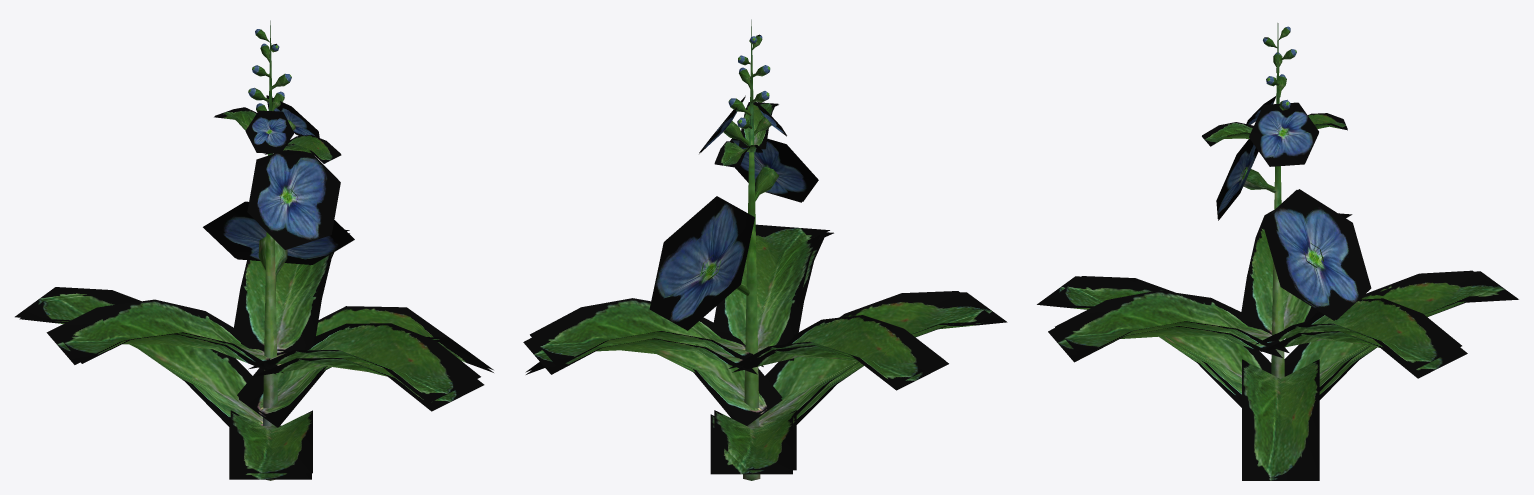
File: speedwell.glb
3 views of the same model, side by side, from view 1: azimuth 30°, elevation 25°; view 2: azimuth 150°, elevation 25°; view 3: azimuth 270°, elevation 25° (orthographic). The views are drawn at different scales.
Visible parts, largest first — view 1: Speedwell; view 2: Speedwell; view 3: Speedwell.
Part boxes in pixels (x1=…): Speedwell: x1=15, y1=20, x2=493, y2=480; Speedwell: x1=523, y1=19, x2=1007, y2=480; Speedwell: x1=1037, y1=23, x2=1518, y2=480.
Size of the model in its own units: 44.1 by 48.54 by 48.71.
Materials: 1 (1 with a texture image).
